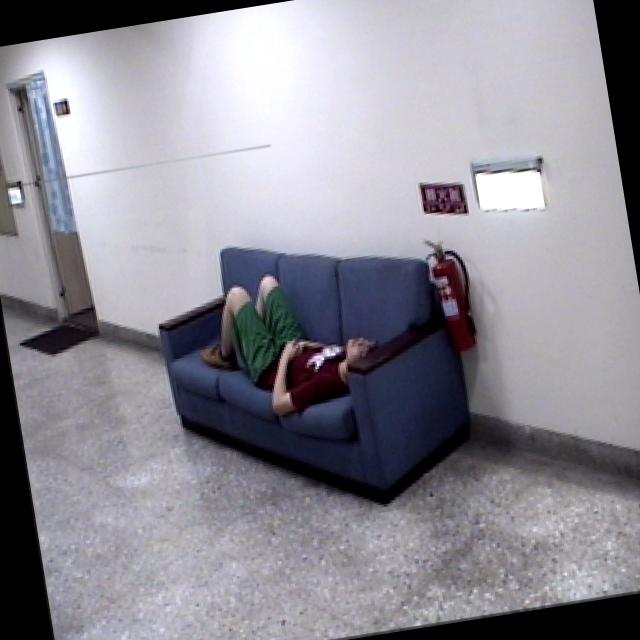lie: (176, 259, 399, 432)
